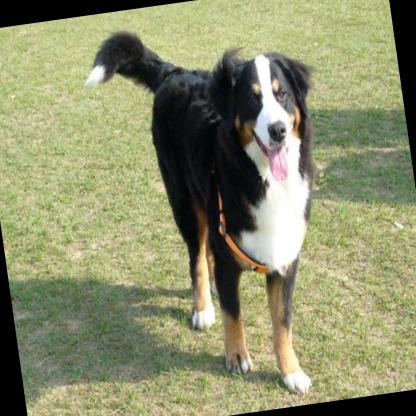Bernese_mountain_dog: (70, 0, 352, 416)
